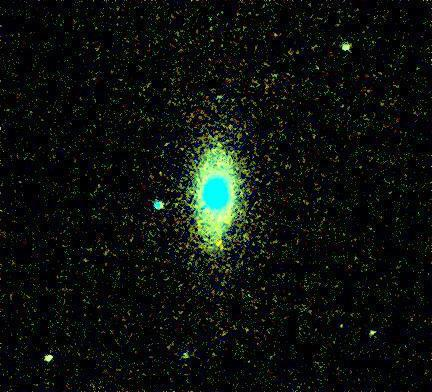star: (204, 231, 234, 261)
